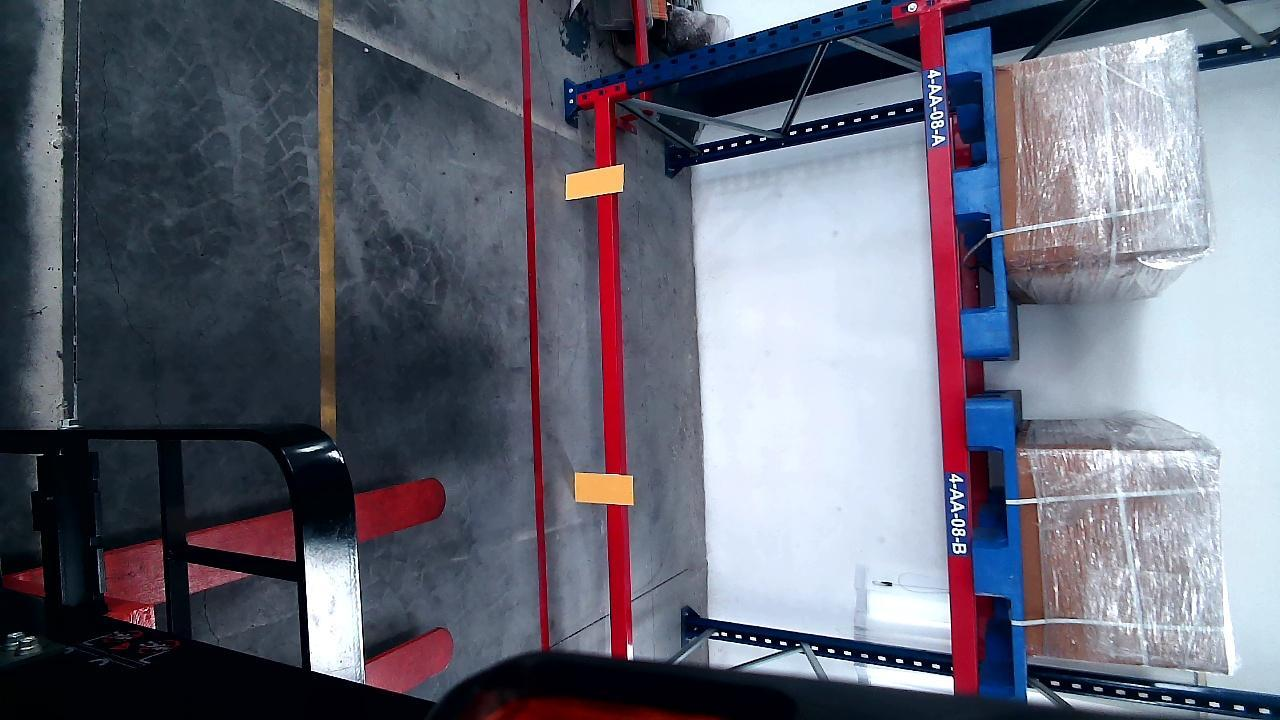red_line: (520, 2, 545, 647)
yellow_line: (315, 5, 338, 418)
